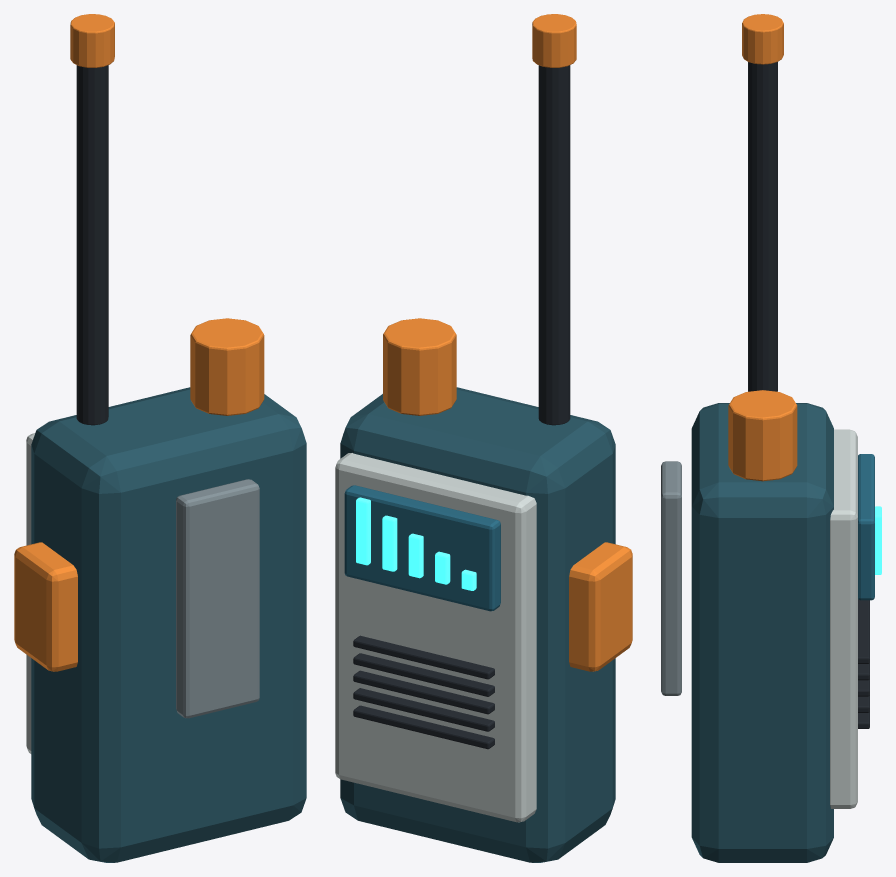
File: field_transceiver.glb
3 views of the same model, side by side, from view 1: azimuth 30°, elevation 25°; view 2: azimuth 150°, elevation 25°; view 3: azimuth 270°, elevation 25° (orthographic). The views are drawn at different scales.
Parts seen in each view (by area): view 1: field_transceiver_mesh, radio_antenna_mesh; view 2: field_transceiver_mesh, radio_antenna_mesh; view 3: field_transceiver_mesh, radio_antenna_mesh.
Boxes of the visible parts, x1,y1,x2,y2 form: field_transceiver_mesh: (14,318,306,862); radio_antenna_mesh: (70,14,114,425); field_transceiver_mesh: (335,318,632,862); radio_antenna_mesh: (532,14,576,425); field_transceiver_mesh: (661,390,881,862); radio_antenna_mesh: (742,14,783,391).
Size of the model in its own units: 0.1795 by 0.5645 by 0.1475.
